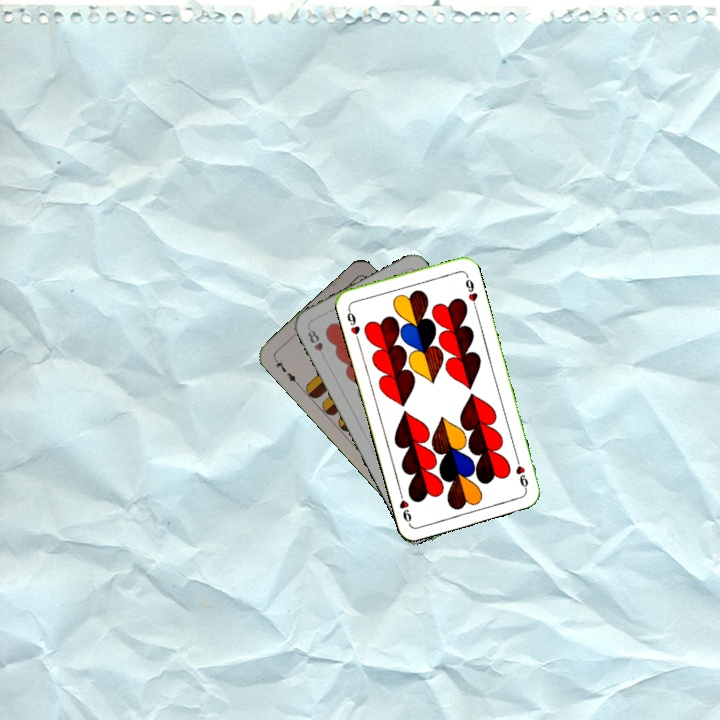E7: (270, 354, 301, 388)
H8: (304, 326, 328, 361)
H9: (343, 304, 363, 344), (511, 452, 531, 492)
